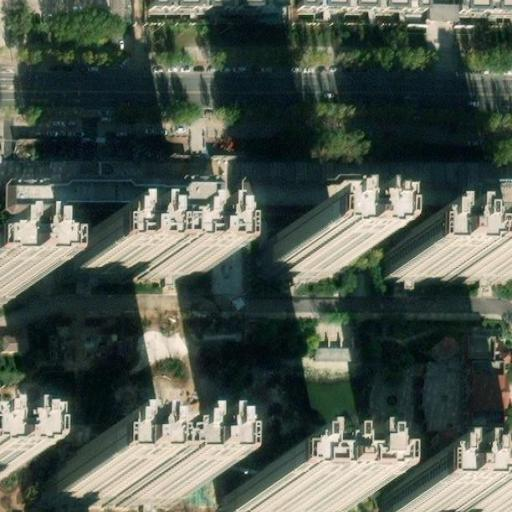building: (243, 176, 491, 212), (6, 176, 223, 212), (61, 241, 191, 285), (61, 451, 191, 494), (380, 240, 500, 284), (240, 465, 348, 509), (382, 476, 510, 512), (278, 226, 352, 266), (298, 0, 421, 10), (151, 0, 280, 8), (427, 4, 457, 20), (0, 268, 16, 292)
